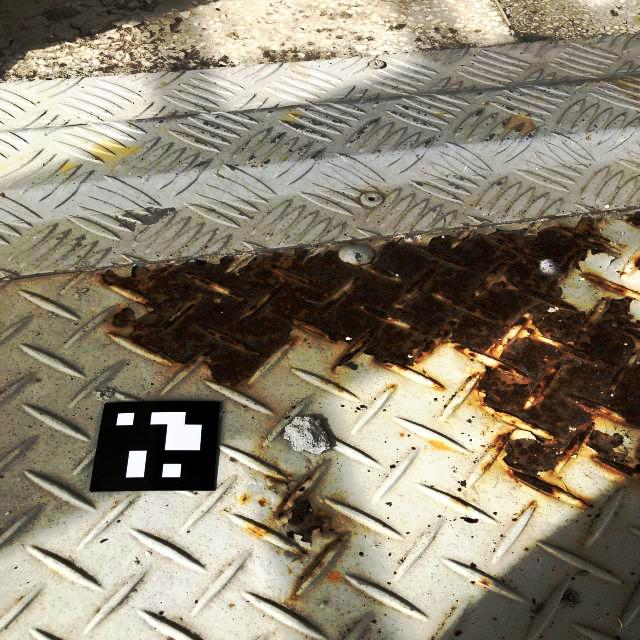Corrosion: (95, 214, 640, 508), (269, 475, 350, 599), (246, 520, 274, 539), (618, 211, 640, 230), (286, 547, 309, 564), (320, 379, 345, 392), (448, 495, 471, 508), (628, 254, 640, 273), (476, 579, 490, 587), (620, 266, 629, 278), (526, 500, 536, 510), (258, 498, 267, 507), (241, 494, 248, 503)
